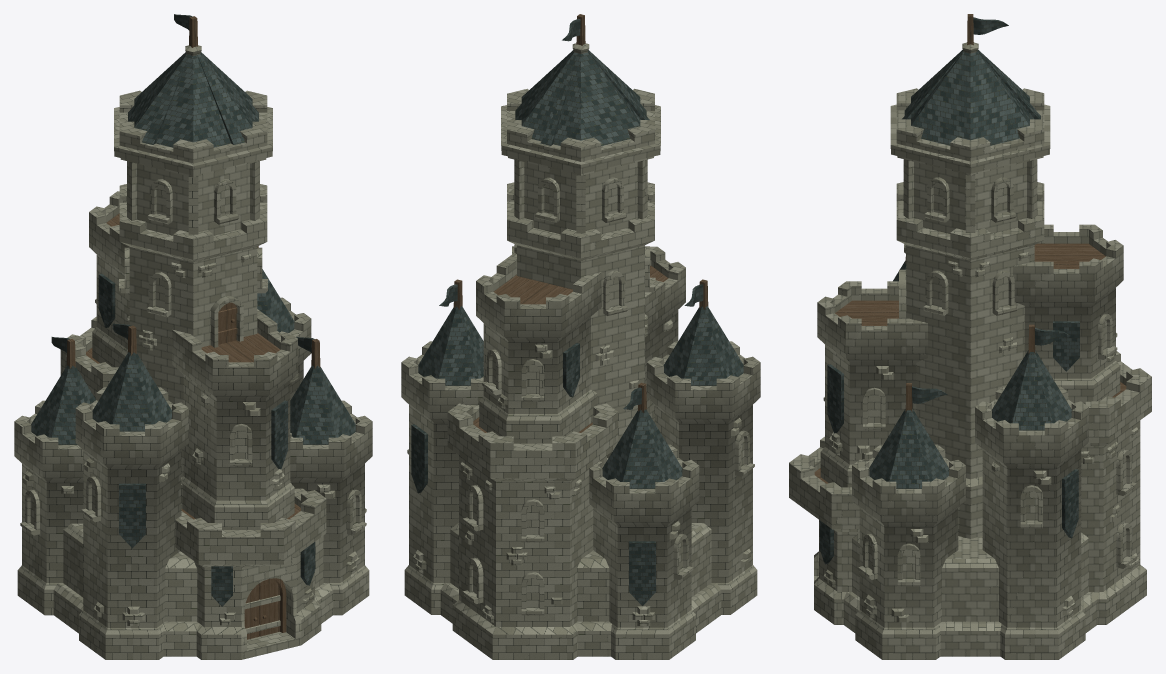
Rendered from watchtower.glb.
3 renders of one model, left to right at view 1: azimuth 30°, elevation 25°; view 2: azimuth 150°, elevation 25°; view 3: azimuth 270°, elevation 25°, orthographic.
Parts seen in each view (by area): view 1: building_castle_green; view 2: building_castle_green; view 3: building_castle_green.
Boxes of the visible parts, x1=… form: building_castle_green: x1=14, y1=14, x2=372, y2=659; building_castle_green: x1=401, y1=14, x2=760, y2=659; building_castle_green: x1=789, y1=14, x2=1151, y2=659.
Bounding box in the file's own units: 1.98 × 3.98 × 2.26.
3 materials, 3 textured.
